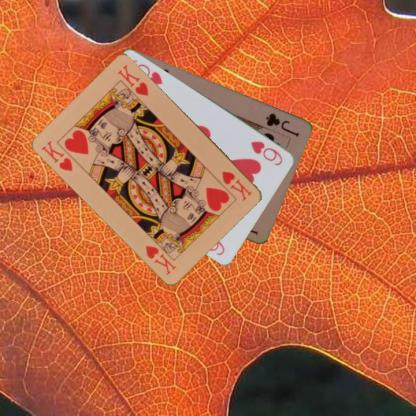6h: (249, 138, 284, 167)
Jc: (263, 110, 301, 138)
Kh: (220, 168, 254, 203), (40, 138, 75, 172)
